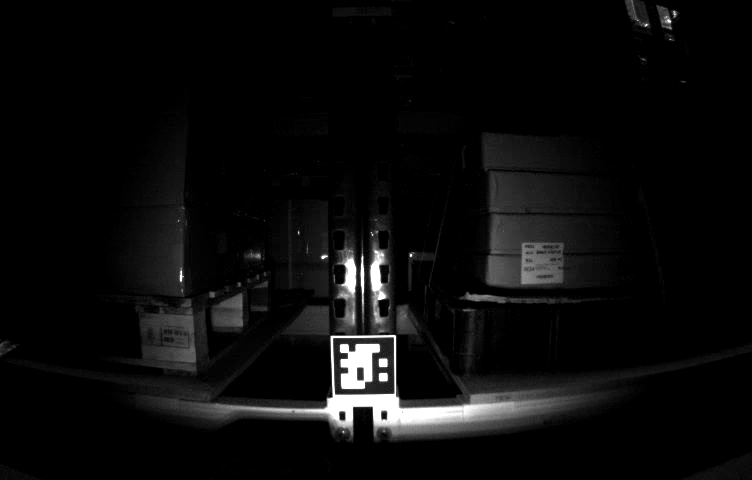True Barcode: (518, 240, 565, 284)
